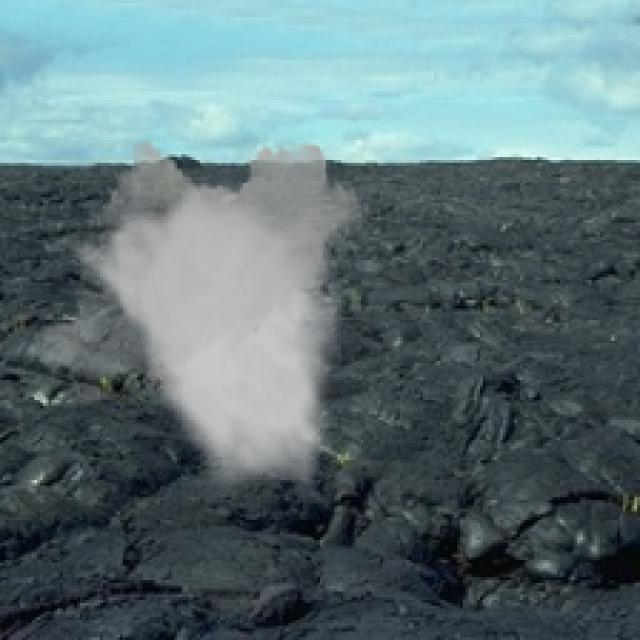smoke: (26, 131, 371, 503)
